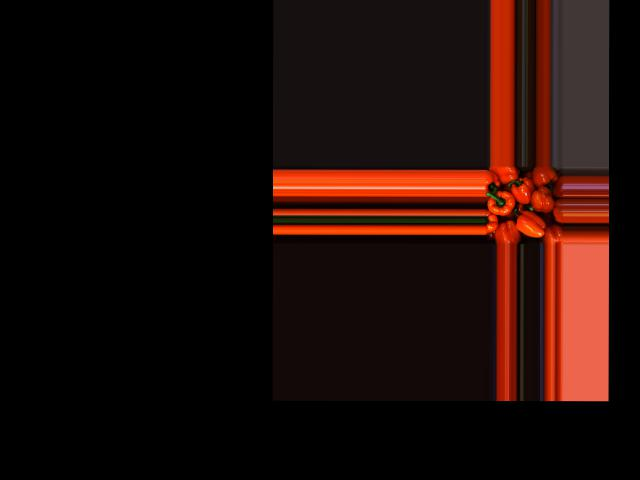bell_pepper: (546, 173, 563, 203)
